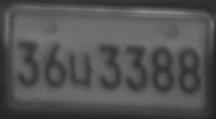3: (124, 46, 148, 91), (98, 45, 121, 91), (17, 41, 38, 87)
6: (43, 42, 67, 87)
8: (178, 47, 201, 95), (151, 46, 174, 92)
나: (69, 54, 94, 87)
